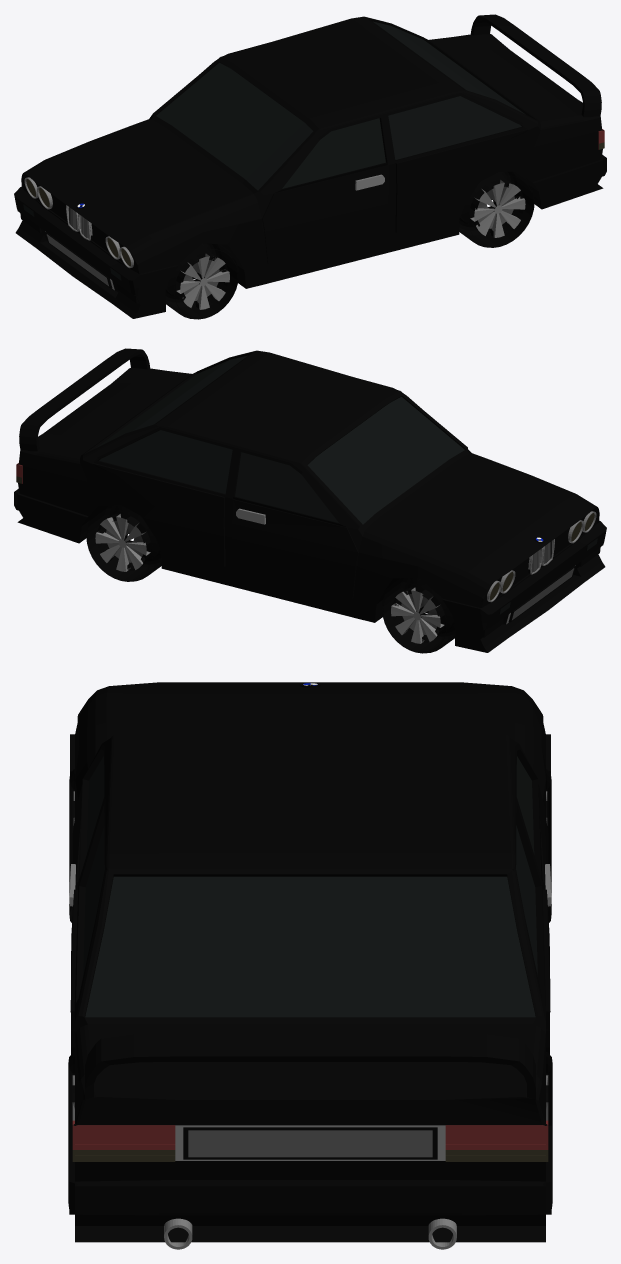
File: car4.fbx
The picture shows the model from 3 angles, top to bottom: view 1: azimuth 30°, elevation 25°; view 2: azimuth 150°, elevation 25°; view 3: azimuth 270°, elevation 25°; orthographic projection. The views are drawn at different scales.
Parts seen in each view (by area): view 1: Cube, Cube.003, Cube.002, Plane; view 2: Cube, Cube.005, Cube.004, Plane; view 3: Cube, Plane.
Boxes of the visible parts, x1,y1,x2,y2 form: Cube: (14,16,606,318); Cube.003: (459,171,534,247); Cube.002: (165,243,238,319); Plane: (470,14,601,117); Cube: (14,350,606,652); Cube.005: (86,505,161,581); Cube.004: (382,577,455,653); Plane: (19,348,150,451); Cube: (69,682,551,1249); Plane: (85,1033,535,1099).
Size of the model in its own units: 464 by 147 by 204.
